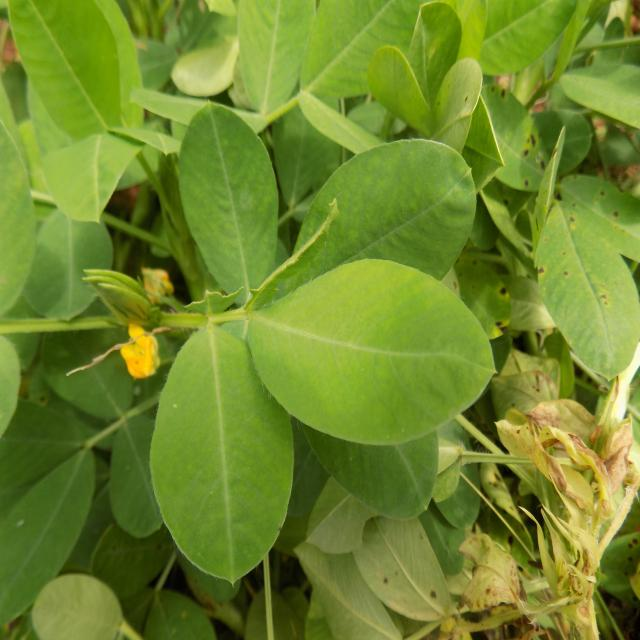Ground nut_healthy: (248, 257, 494, 449), (150, 321, 297, 583), (275, 141, 477, 300), (176, 101, 284, 303)
Ground nut_tikka leaf spot: (534, 194, 640, 382)
